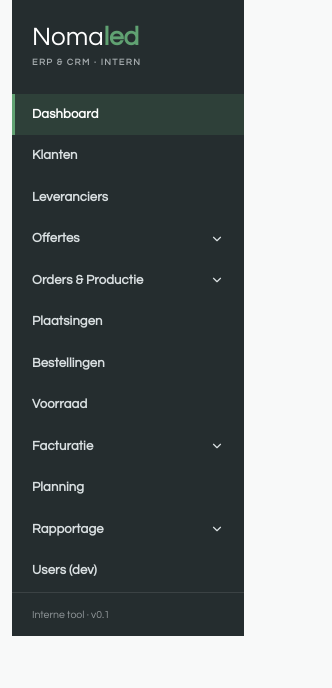
Test case: Sidebar › collapses the submenu again on a second click
Click the button "Offertes" at (128,239), box [12,218,244,260]
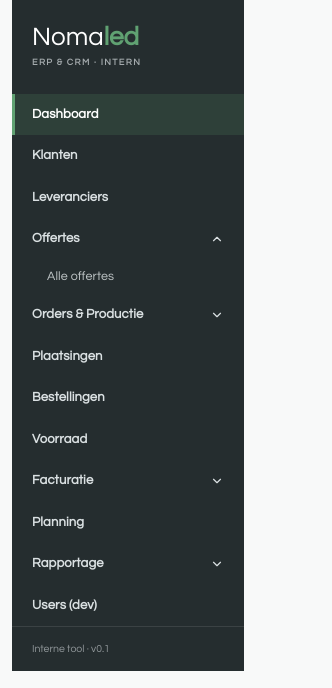
Click the button "Offertes" at (128,239), box [12,218,244,260]
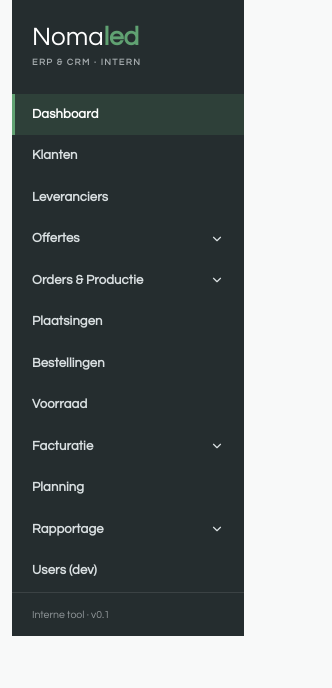
Expected: the button "Offertes" is collapsed, [12,218,244,260]
Expected: the link "Alle offertes" is gone
